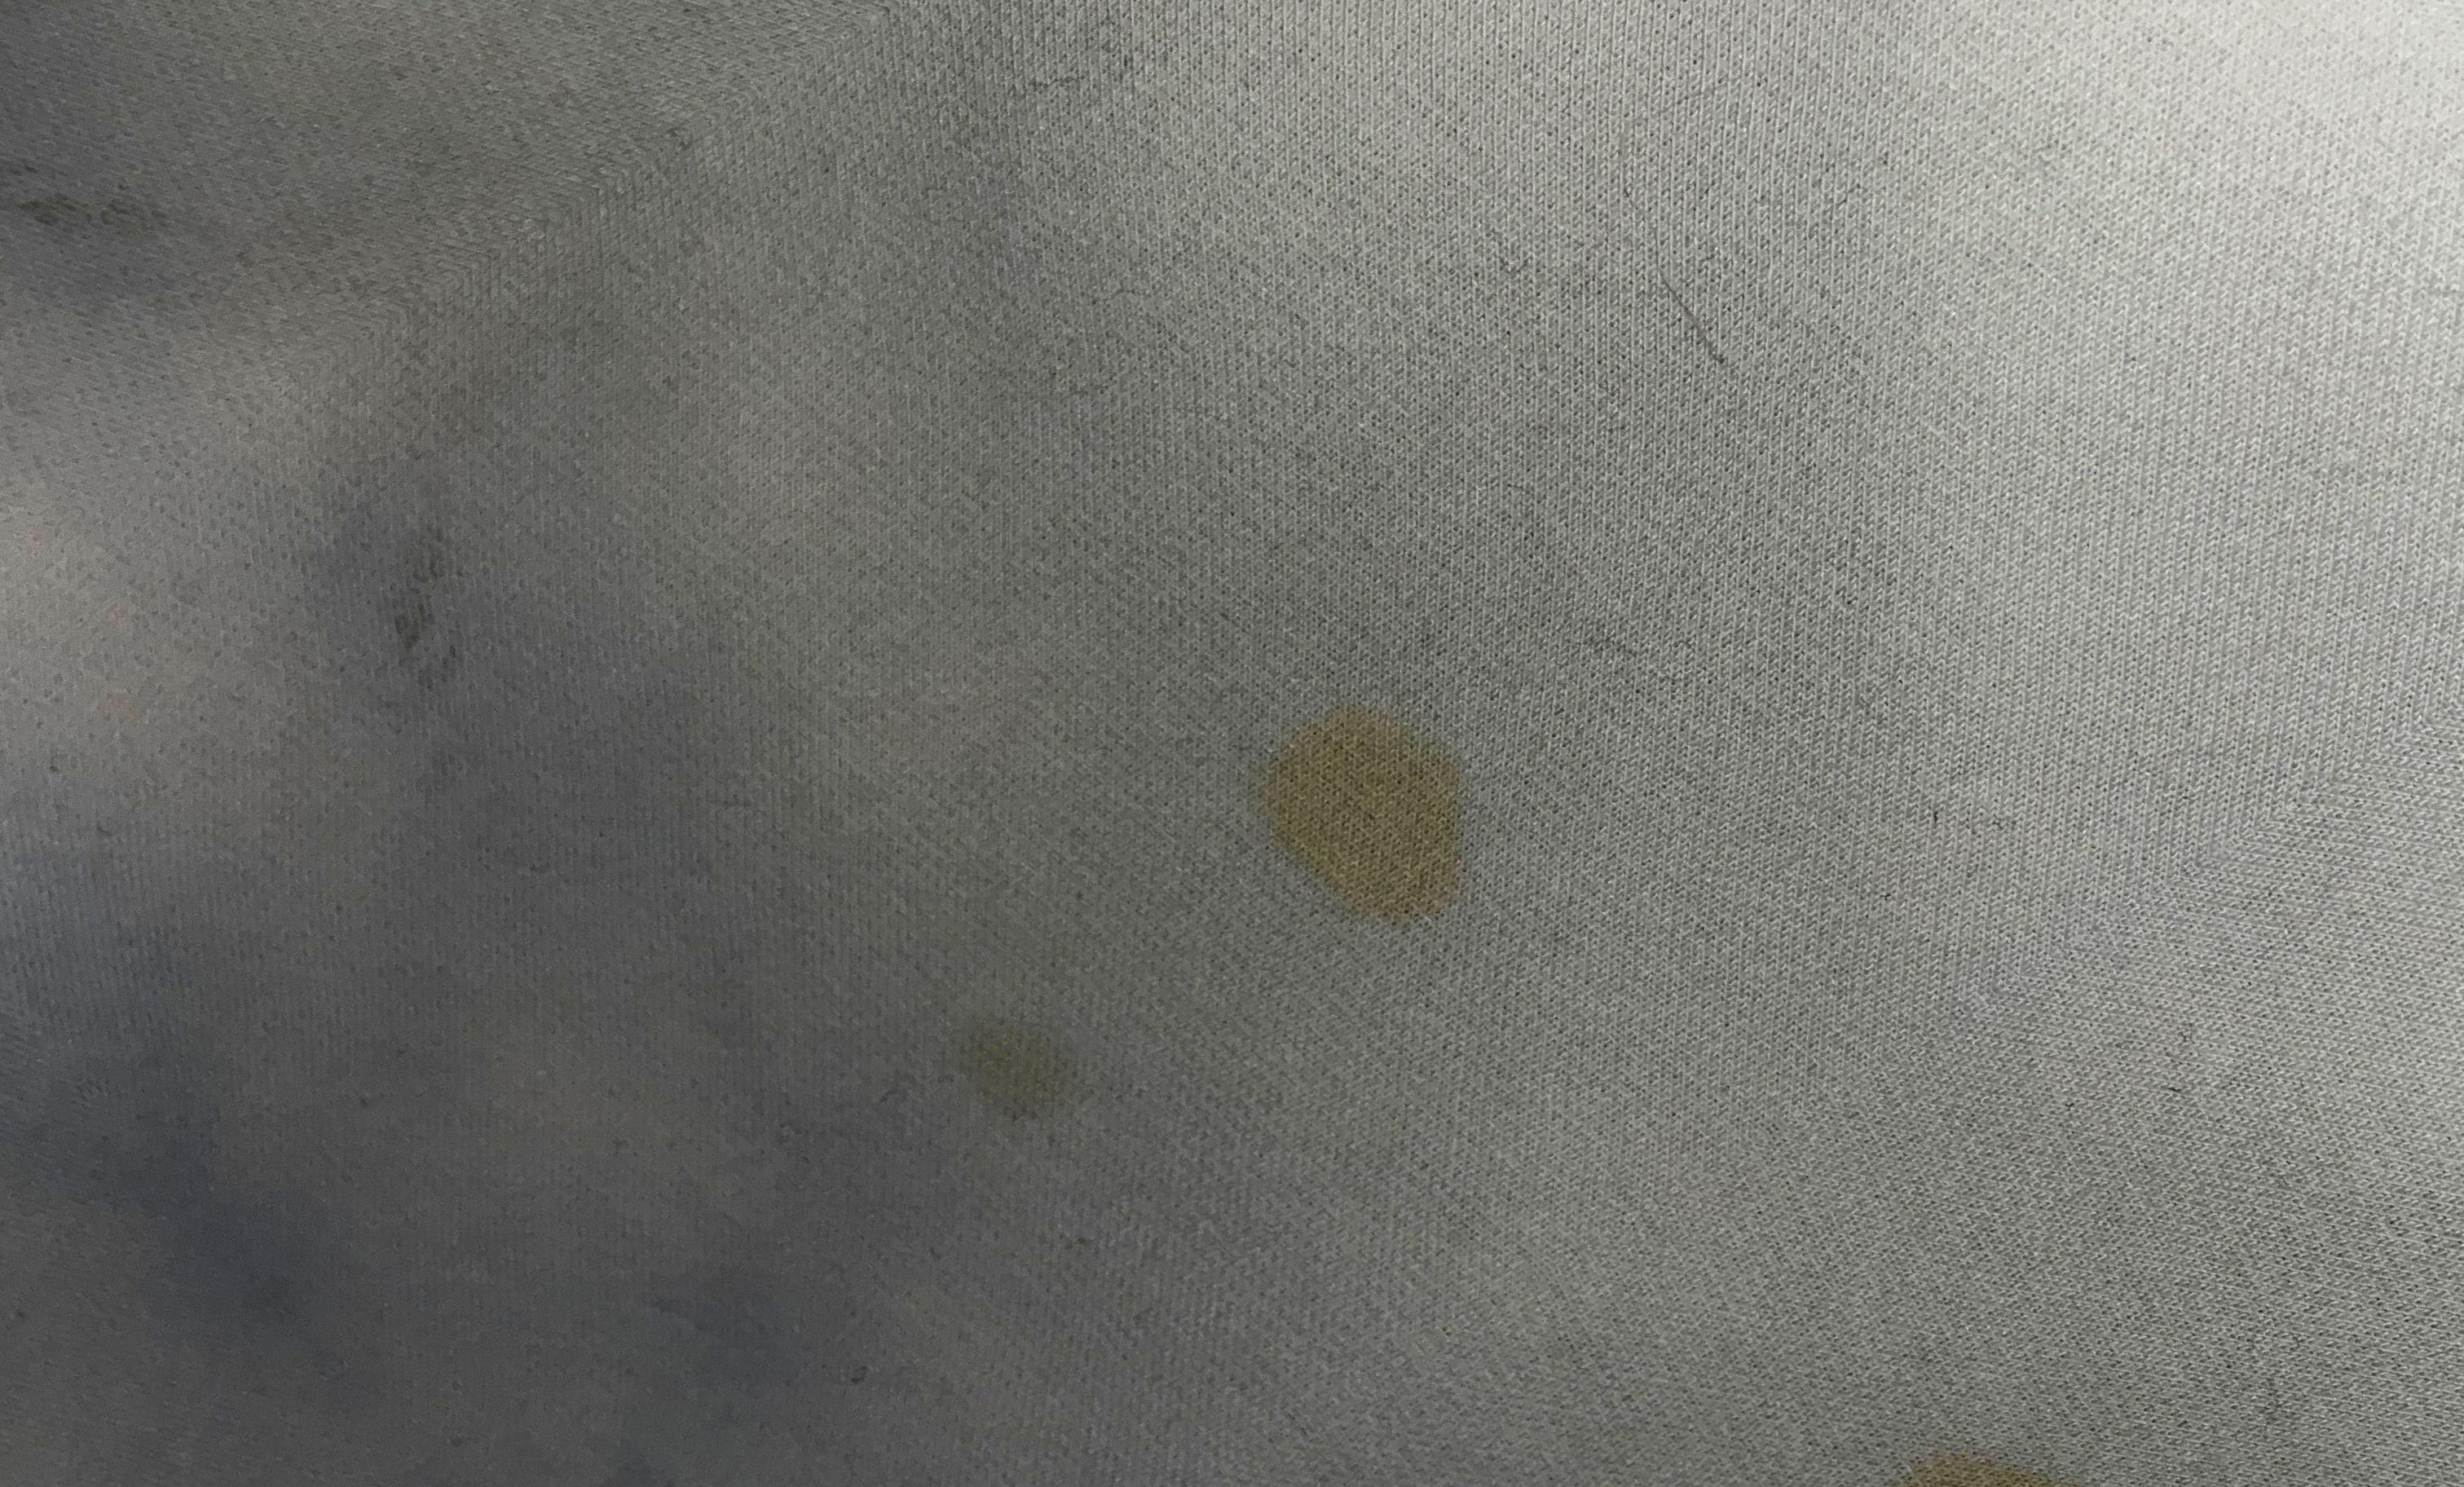stain: (1250, 692, 1496, 943), (924, 989, 1088, 1135)
